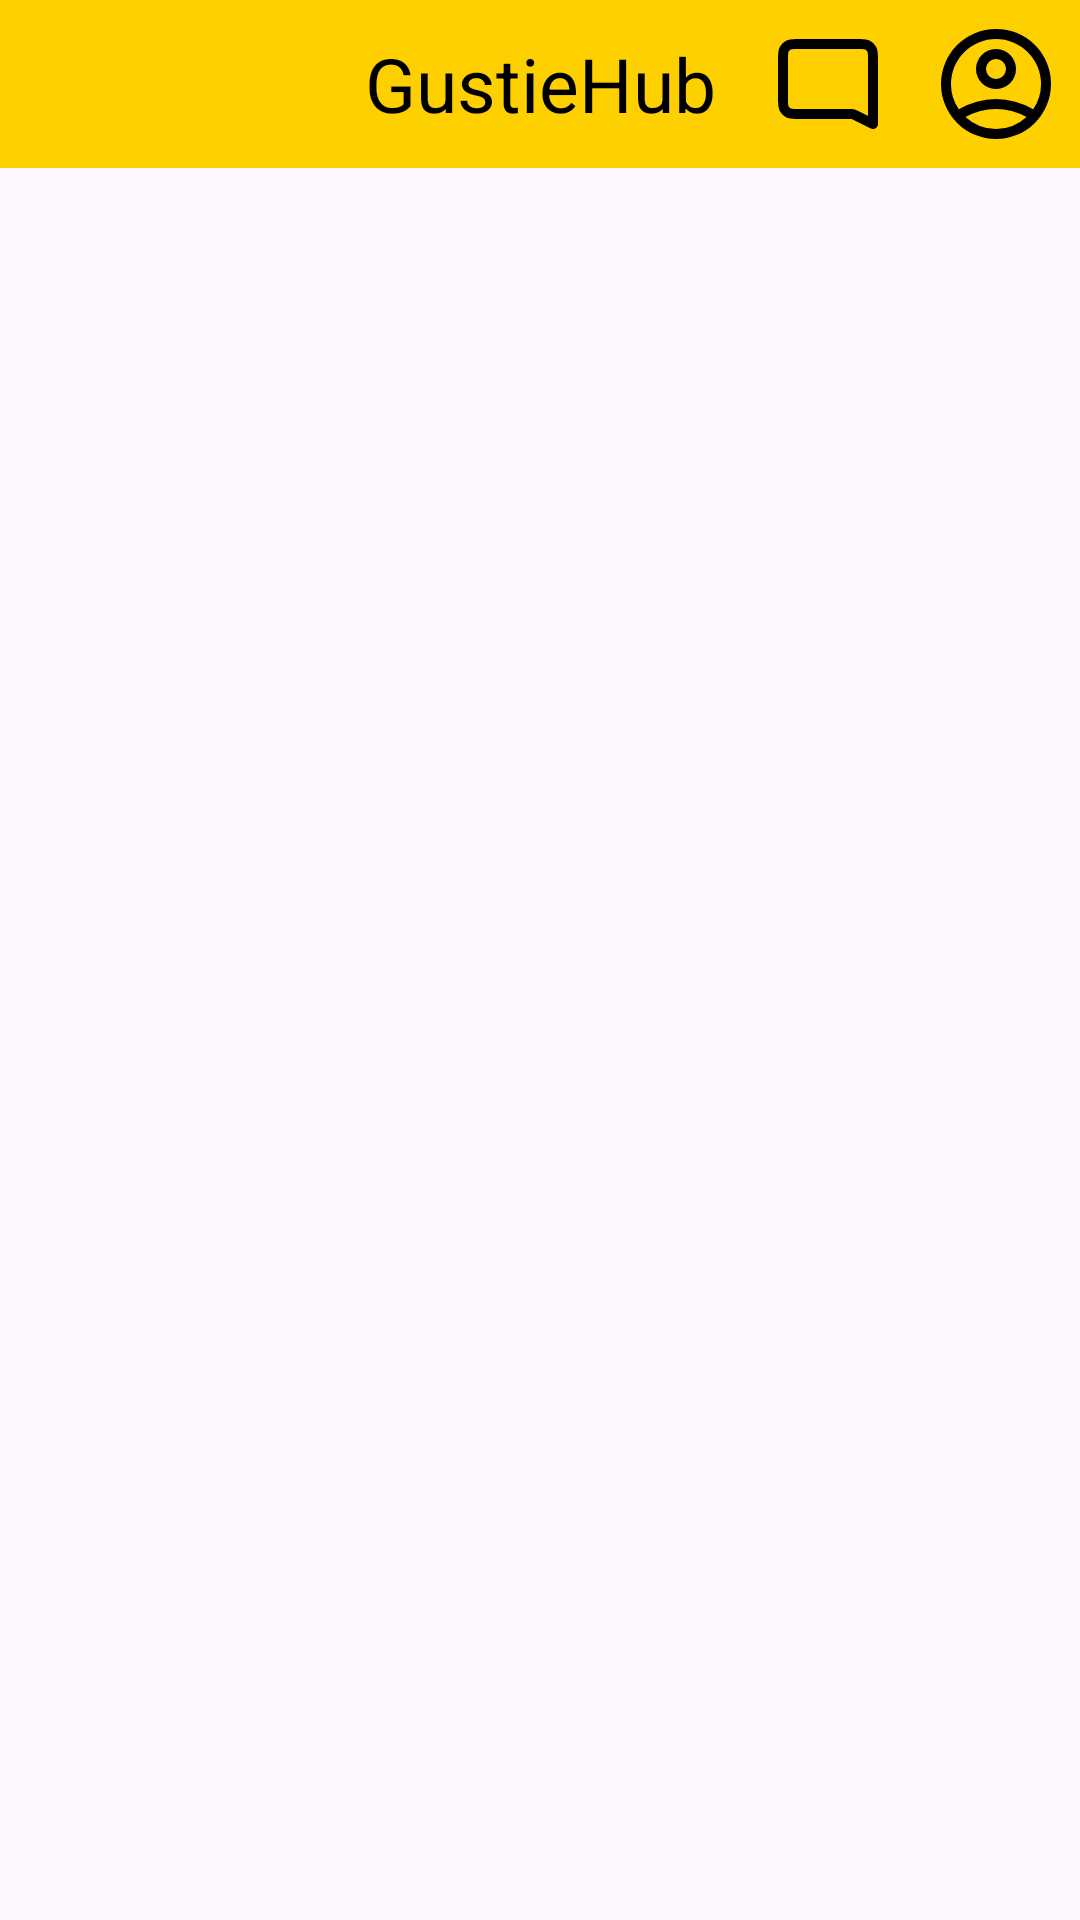

Where to tap for icons on this 1080x1920 app screen, as (x=x, y=y):
message: (x=828, y=84)
profile: (x=996, y=84)
